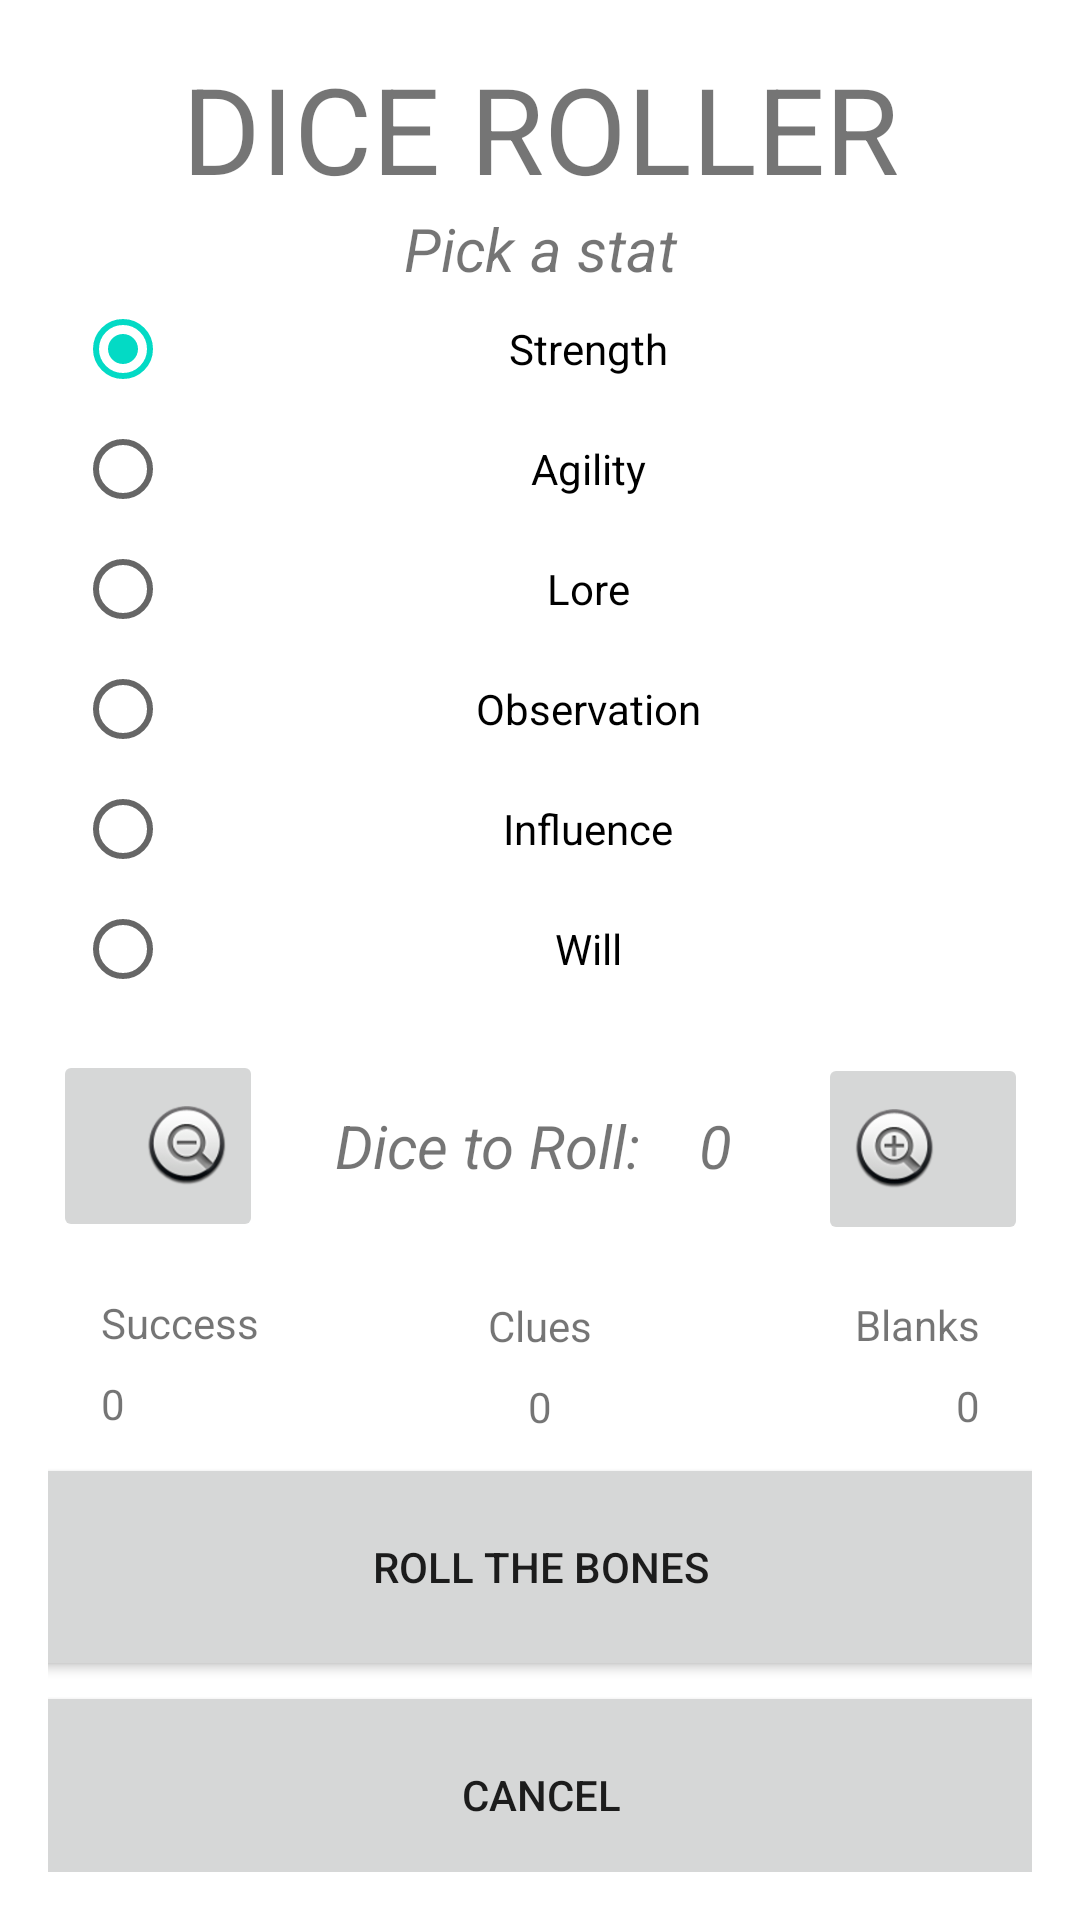

Named icons in this screenshot (1080w x 1920h) and their bounding boxes, (x1, y1, x2, y2):
minus: (65, 1068, 251, 1224)
plus: (830, 1071, 1016, 1227)
